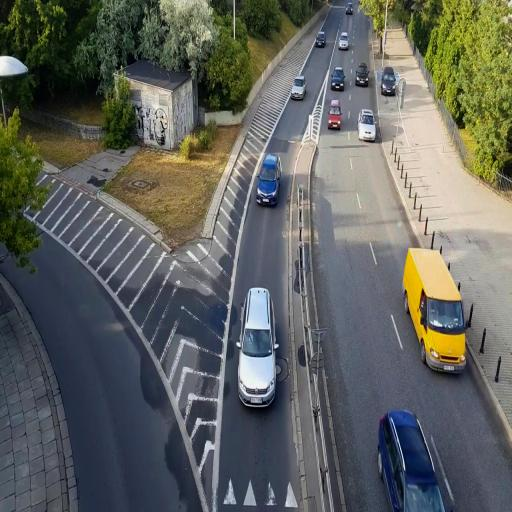vehicle: (402, 247, 470, 376), (377, 408, 447, 512), (237, 286, 278, 410), (237, 285, 277, 410), (256, 154, 281, 207), (358, 108, 376, 142), (380, 67, 398, 96), (327, 102, 342, 130), (290, 76, 306, 100), (330, 68, 345, 92), (354, 64, 368, 87), (338, 32, 350, 50), (315, 29, 326, 47)
